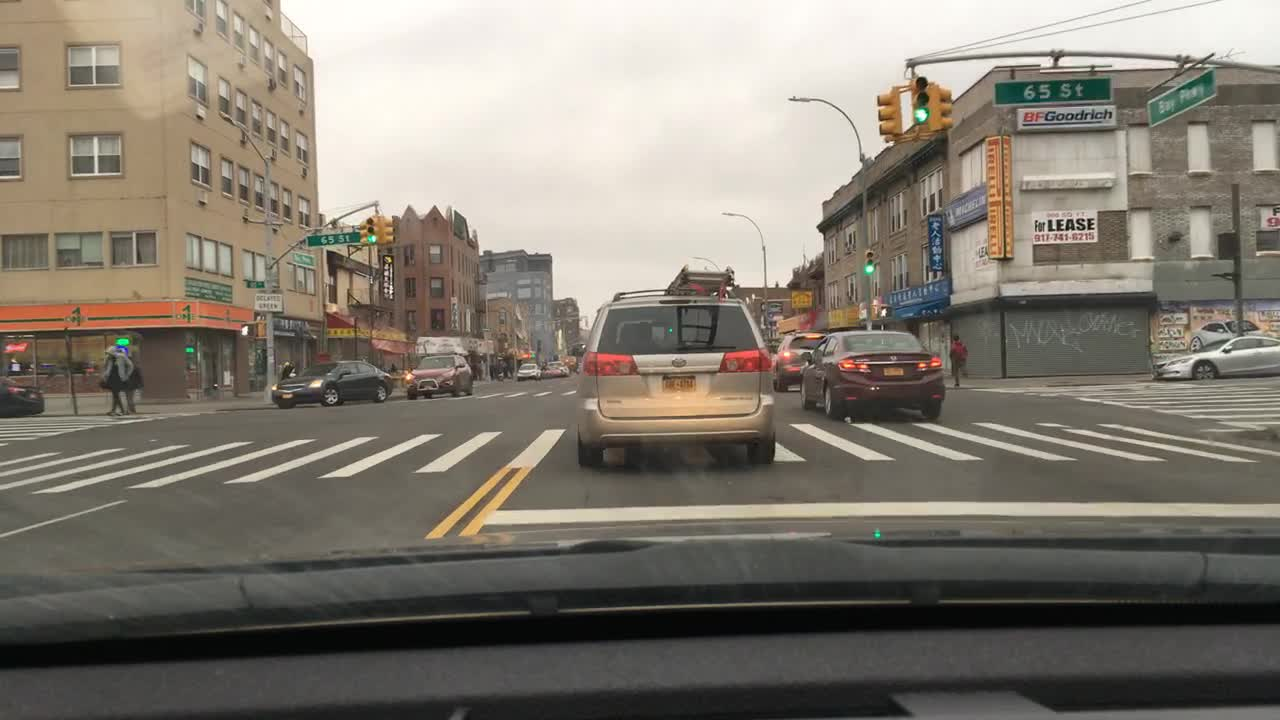car: (566, 267, 776, 462), (801, 331, 945, 416), (272, 356, 394, 403), (1154, 336, 1278, 379), (769, 333, 827, 390), (406, 356, 472, 396), (0, 375, 43, 416), (516, 361, 540, 380), (545, 360, 563, 376)
person: (96, 346, 133, 416), (948, 335, 970, 386), (124, 358, 142, 415), (281, 361, 294, 380), (389, 363, 400, 375)
traffic light: (875, 86, 907, 139), (909, 76, 932, 128), (933, 87, 955, 132), (381, 214, 396, 243), (368, 215, 381, 244), (863, 249, 875, 275), (240, 320, 254, 340), (356, 218, 366, 245), (879, 304, 892, 319), (252, 321, 265, 335)
traffic sign: (1147, 68, 1215, 123), (994, 77, 1110, 107), (306, 232, 360, 248), (253, 295, 284, 311), (293, 252, 316, 267), (242, 280, 263, 291)
